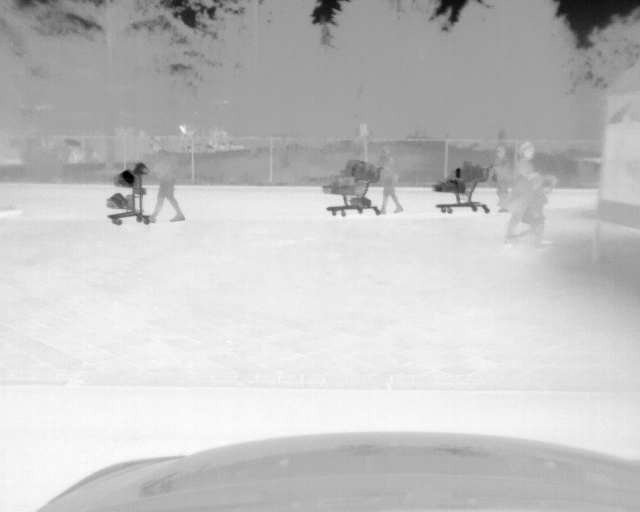people: (145, 140, 188, 224), (505, 142, 539, 243), (515, 173, 555, 250), (374, 145, 405, 216), (488, 144, 510, 212)
